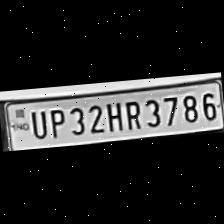2: (84, 100, 106, 136)
3: (64, 102, 86, 138), (140, 94, 162, 128)
6: (196, 88, 218, 122)
7: (160, 93, 180, 127)
8: (178, 91, 200, 124)
H: (103, 99, 124, 133)
P: (44, 106, 67, 140)
R: (120, 96, 142, 132)
U: (26, 107, 48, 140)
